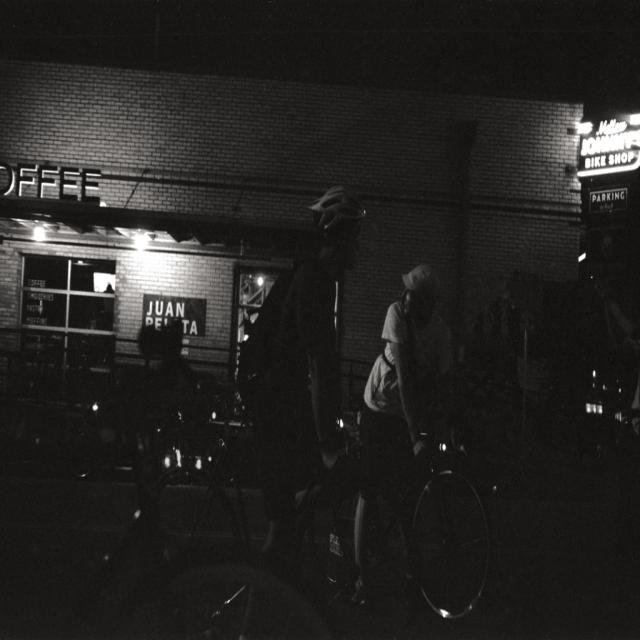Bicycle: (54, 401, 404, 640), (347, 429, 571, 640)
People: (291, 184, 380, 474), (392, 261, 455, 471)
